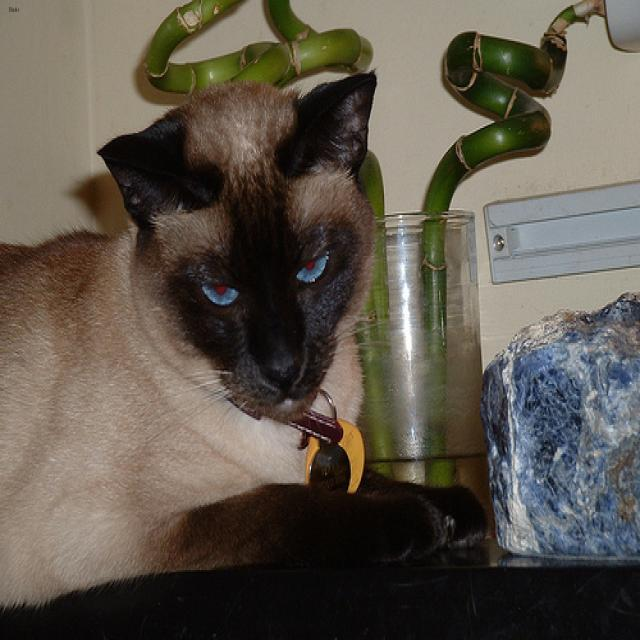Siamese: (95, 68, 374, 418)
